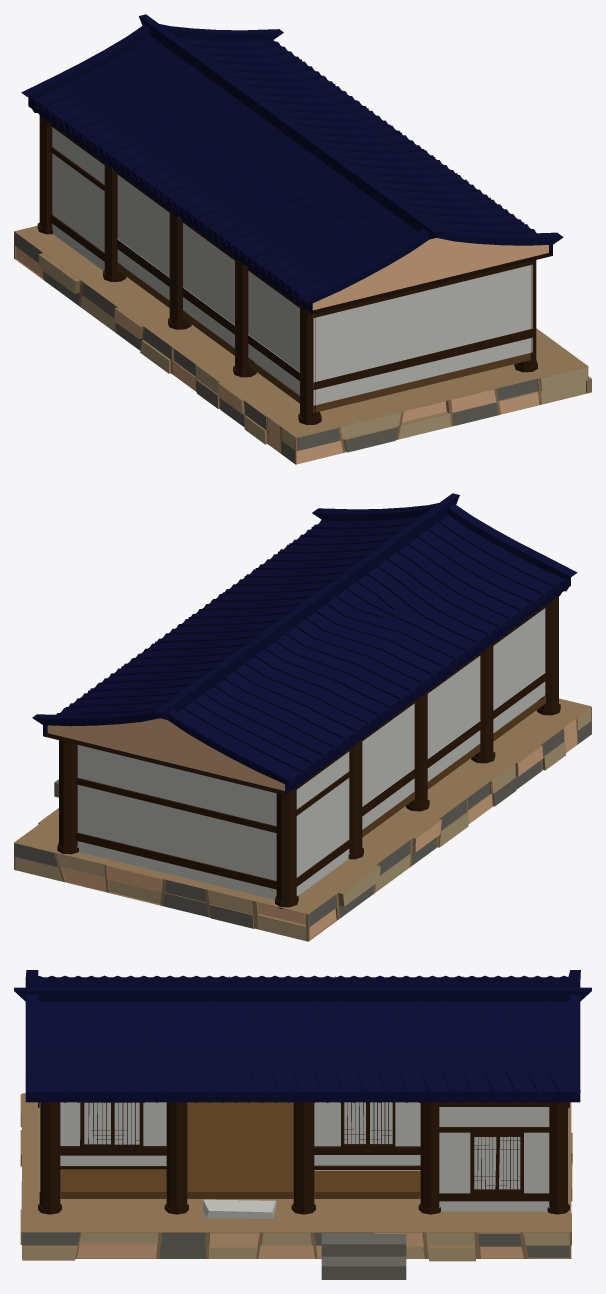
File: Giwa.fbx
3 renders of one model, top to bottom at view 1: azimuth 30°, elevation 25°; view 2: azimuth 150°, elevation 25°; view 3: azimuth 270°, elevation 25°, orthographic. The views are drawn at different scales.
Visible parts, largest first — view 1: Cube.003, Plane, Cube, Cylinder.002, Cube.002, Cylinder.001; view 2: Cube.003, Cube.002, Cube, Plane, Cylinder.002, Cylinder.001; view 3: Cube.003, Plane, Cube, Cube.002, Cylinder.001, Cube.001.
Boxes of the visible parts, box(x1,y1,x2,y2) form: Cube.003: box(21, 14, 563, 314); Plane: box(117, 172, 532, 413); Cube: box(14, 225, 591, 464); Cylinder.002: box(37, 116, 321, 424); Cube.002: box(50, 123, 104, 270); Cylinder.001: box(514, 260, 537, 372); Cube.003: box(32, 493, 577, 795); Cube.002: box(76, 745, 351, 899); Cube: box(14, 698, 591, 941); Plane: box(362, 606, 545, 837); Cylinder.002: box(275, 596, 560, 908); Cylinder.001: box(57, 740, 78, 854); Cube.003: box(14, 970, 591, 1102); Plane: box(39, 1102, 519, 1198); Cube: box(20, 1093, 572, 1261); Cube.002: box(438, 1102, 550, 1211); Cylinder.001: box(38, 1102, 569, 1214); Cube.001: box(321, 1233, 406, 1279).
Bounding box in the file's own units: 1095 × 617 × 1644.
